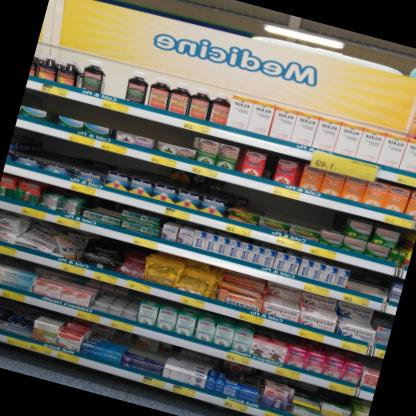empty_space: (344, 266, 392, 301), (100, 67, 127, 99)
